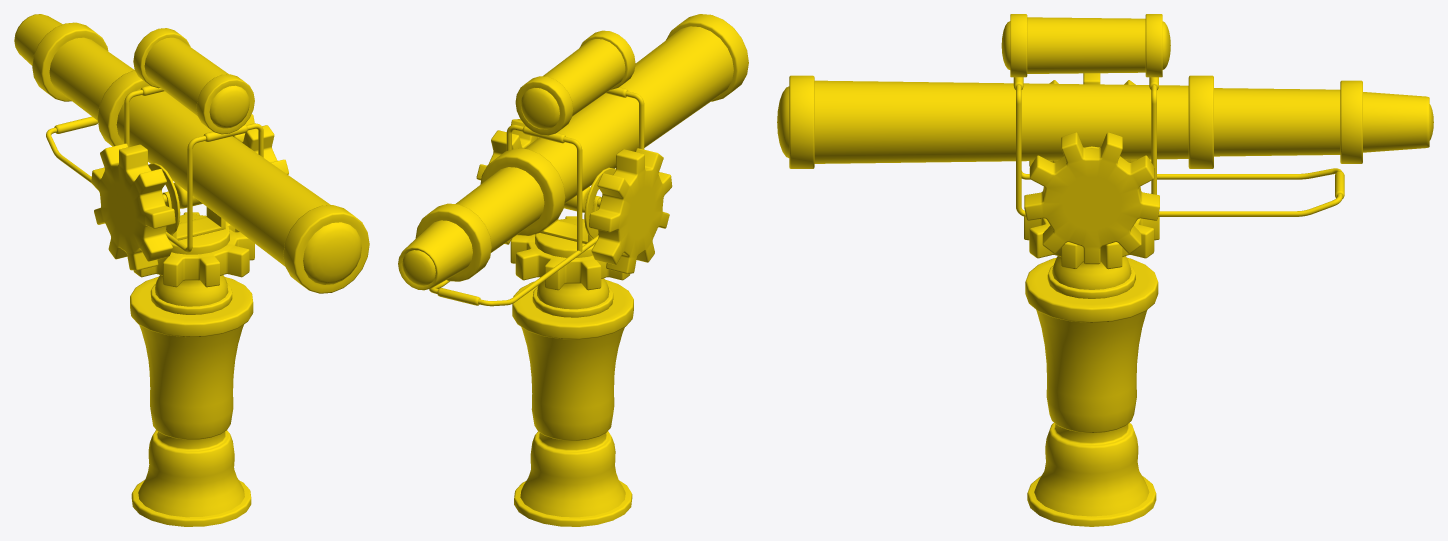
Rendered from sub_Telescope001.fbx.
The picture shows the model from 3 angles, left to right: view 1: azimuth 30°, elevation 25°; view 2: azimuth 150°, elevation 25°; view 3: azimuth 270°, elevation 25°; orthographic projection. The views are drawn at different scales.
Parts seen in each view (by area): view 1: sub_TelescopeBody003, sub_TelescopeBody001, sub_TelescopeGear001, sub_TelescopeBody002, sub_TelescopeGear002; view 2: sub_TelescopeBody003, sub_TelescopeBody001, sub_TelescopeGear001, sub_TelescopeBody002, sub_TelescopeGear002; view 3: sub_TelescopeBody003, sub_TelescopeBody001, sub_TelescopeGear002, sub_TelescopeBody002.
Part boxes in pixels (left/top/right/bottom): sub_TelescopeBody003: left=14, top=14, right=369, bottom=293; sub_TelescopeBody001: left=130, top=275, right=253, bottom=526; sub_TelescopeGear001: left=91, top=143, right=175, bottom=270; sub_TelescopeBody002: left=133, top=191, right=254, bottom=287; sub_TelescopeGear002: left=233, top=114, right=288, bottom=232; sub_TelescopeBody003: left=398, top=14, right=748, bottom=306; sub_TelescopeBody001: left=512, top=278, right=633, bottom=526; sub_TelescopeGear001: left=589, top=148, right=672, bottom=273; sub_TelescopeBody002: left=510, top=195, right=630, bottom=290; sub_TelescopeGear002: left=476, top=119, right=538, bottom=244; sub_TelescopeBody003: left=777, top=14, right=1433, bottom=216; sub_TelescopeBody001: left=1025, top=256, right=1158, bottom=526; sub_TelescopeGear002: left=1024, top=132, right=1159, bottom=264; sub_TelescopeBody002: left=1024, top=216, right=1159, bottom=269.
Bounding box in the file's own units: 0.8974 × 2.78 × 3.42.
